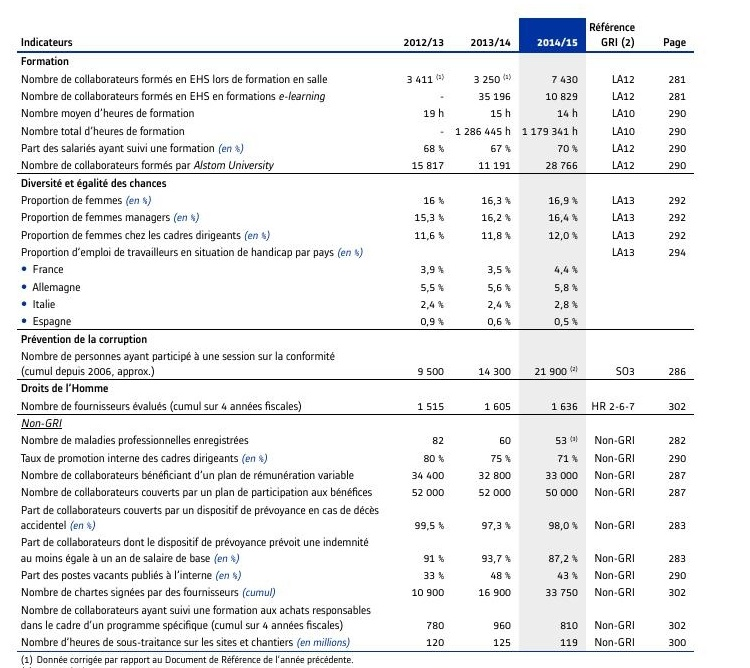table: (0, 0, 750, 668)
